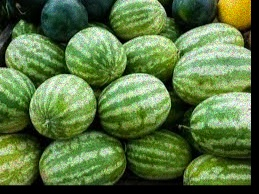watermelon: (97, 73, 173, 139), (39, 133, 128, 183), (30, 72, 95, 140), (174, 46, 250, 101), (66, 27, 128, 82)
